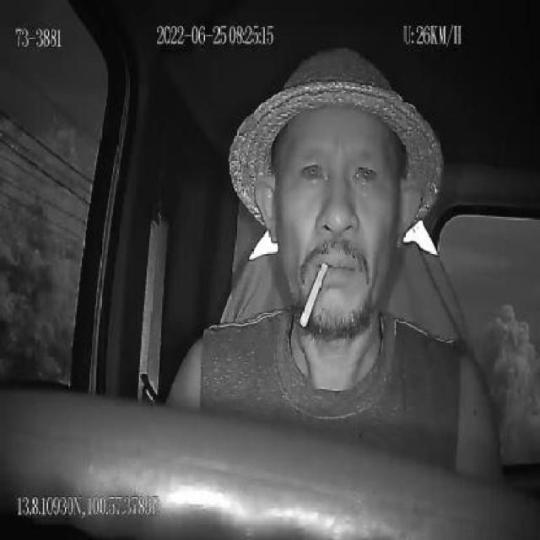smoking: (300, 259, 331, 329)
